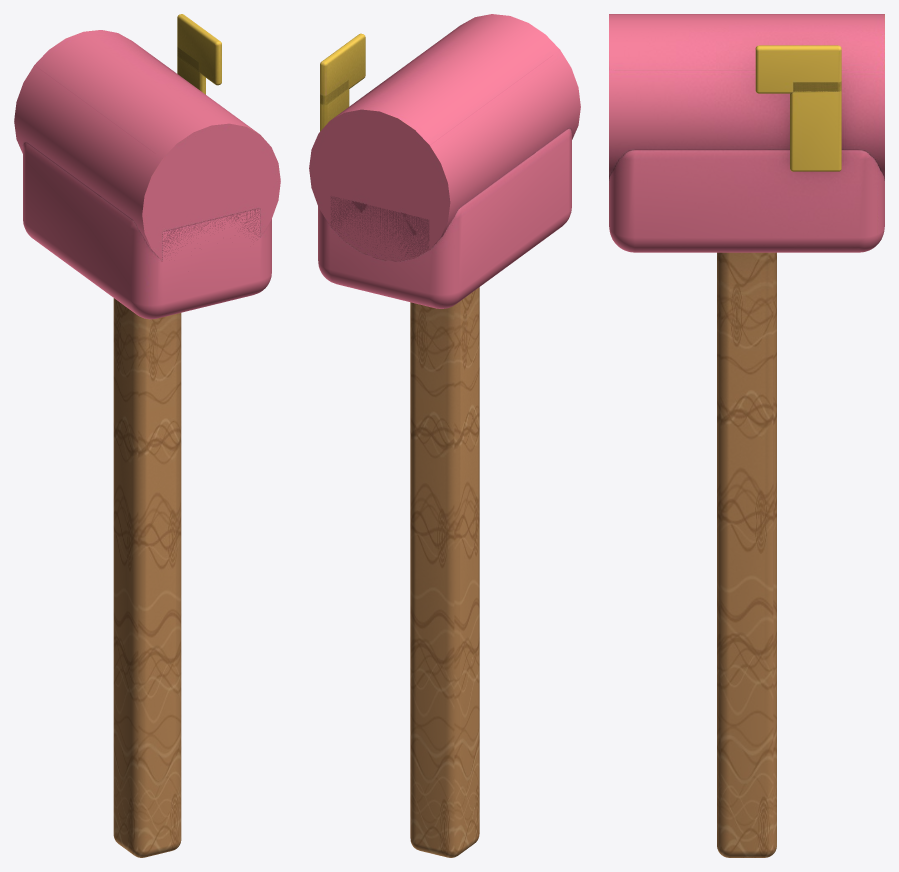
Rendered from mailbox.glb.
3 renders of one model, left to right at view 1: azimuth 30°, elevation 25°; view 2: azimuth 150°, elevation 25°; view 3: azimuth 270°, elevation 25°, orthographic. The views are drawn at different scales.
Visible parts, largest first — view 1: mailbox; view 2: mailbox; view 3: mailbox.
Part boxes in pixels (left/top/right/bottom): mailbox: left=14, top=14, right=280, bottom=857; mailbox: left=309, top=14, right=580, bottom=857; mailbox: left=609, top=14, right=884, bottom=857.
Bounding box in the file's own units: 0.215 × 1.08 × 0.32.
1 material, 1 textured.
